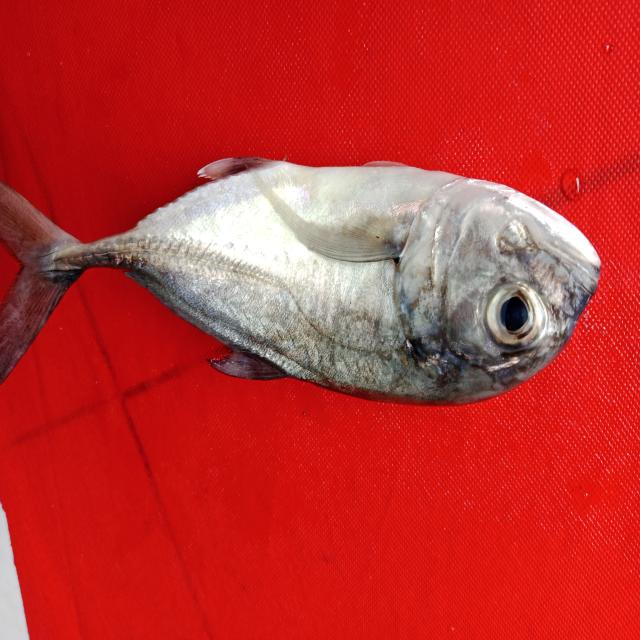ikan: (5, 126, 615, 426)
